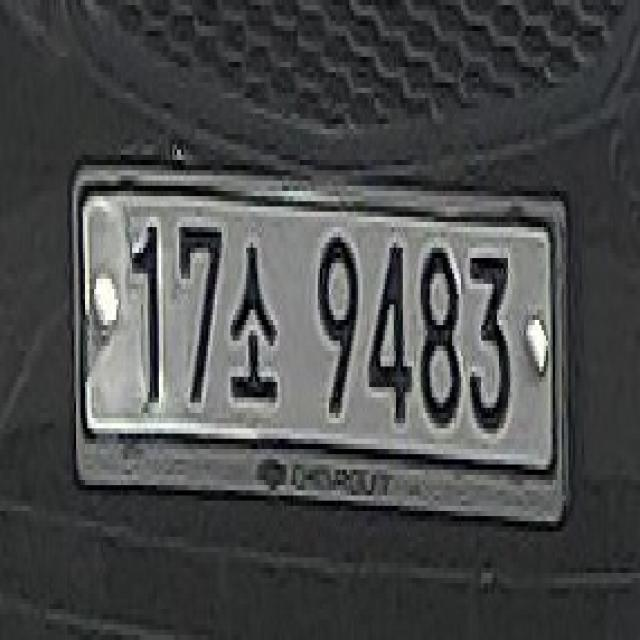1: (128, 212, 170, 418)
3: (468, 242, 514, 444)
4: (365, 227, 416, 439)
7: (172, 212, 226, 418)
8: (416, 237, 466, 444)
9: (309, 212, 362, 438)
license_plate: (58, 145, 573, 552)
so: (226, 227, 284, 418)
